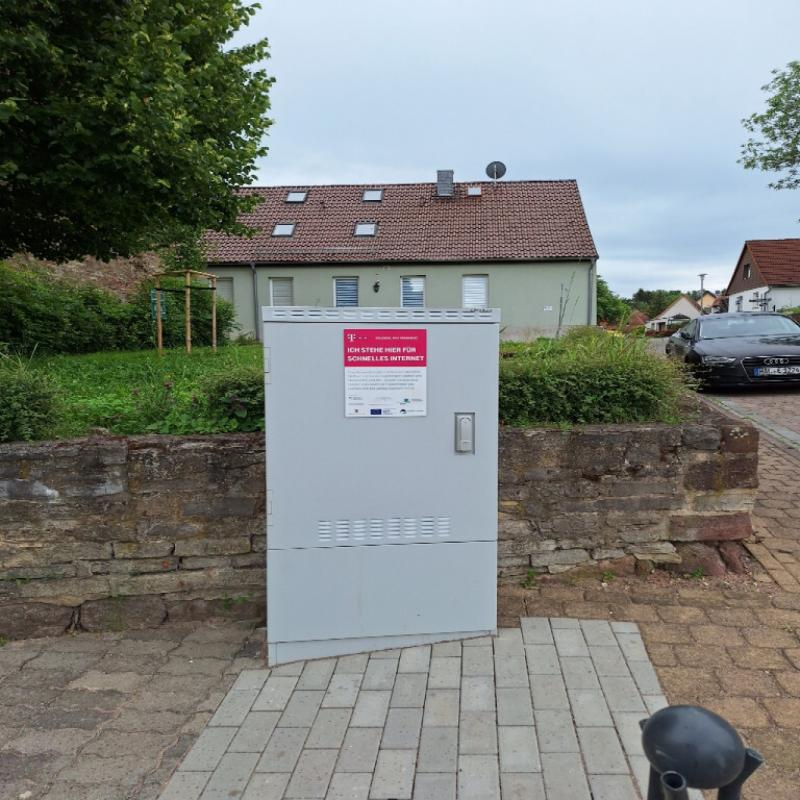NT-Gehause: (257, 308, 507, 647)
Steaker: (346, 327, 428, 419)
